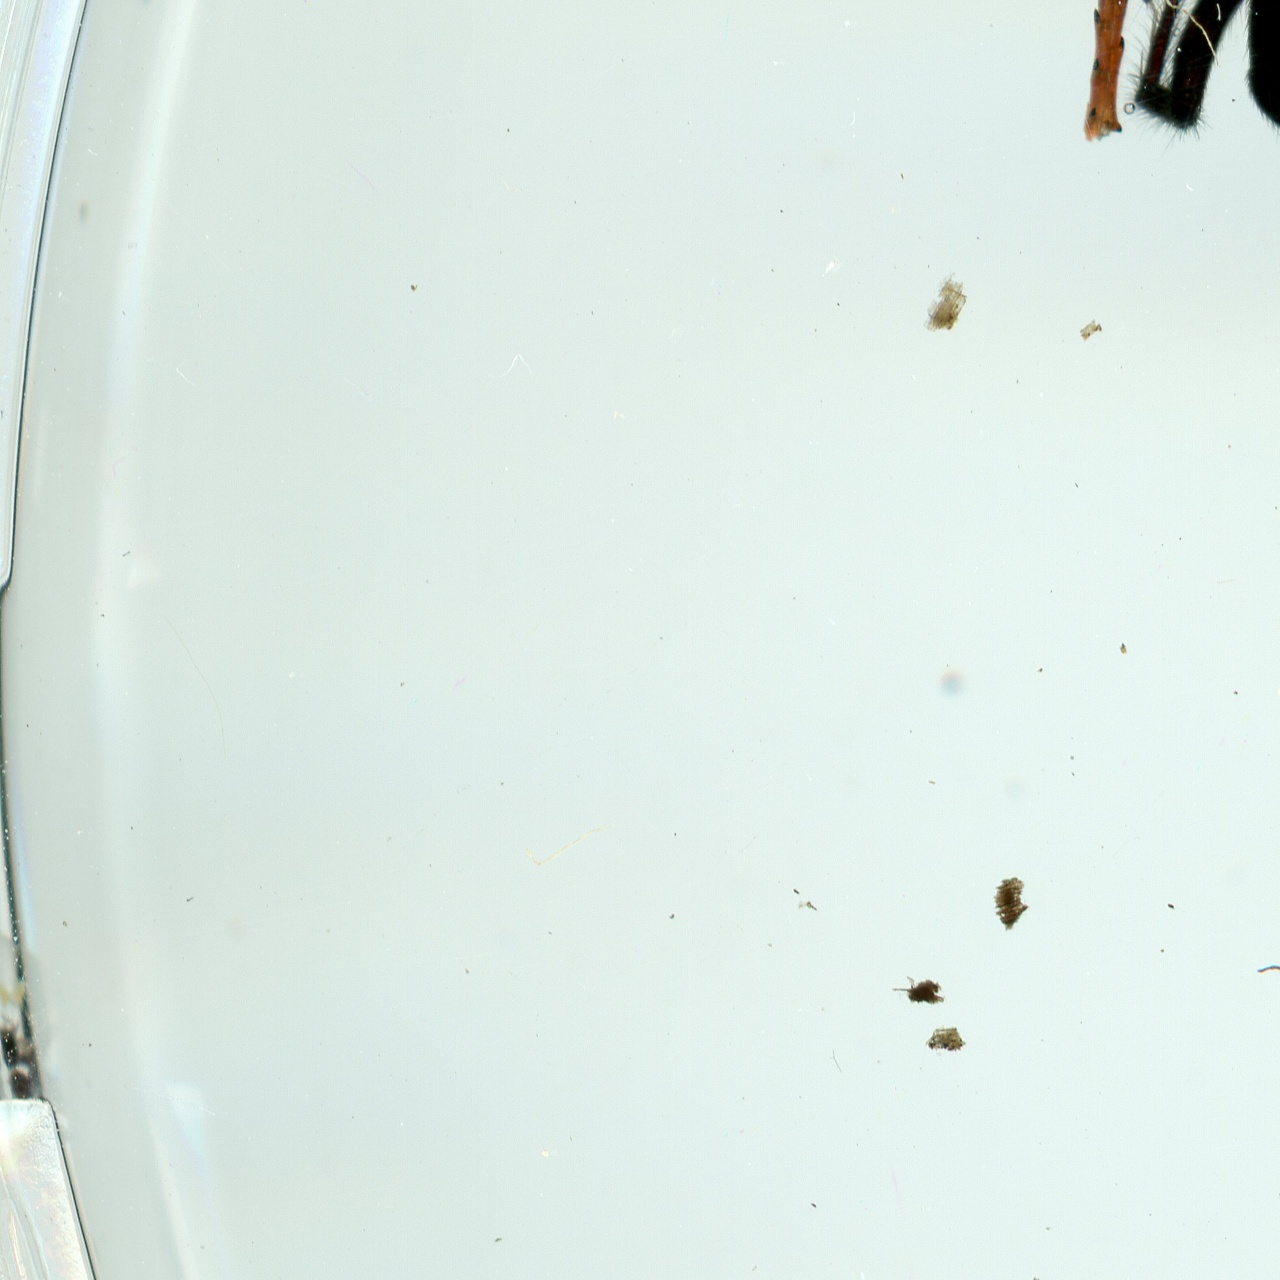arthropod: (1112, 0, 1280, 179), (1109, 0, 1163, 39), (1253, 942, 1280, 1003)
